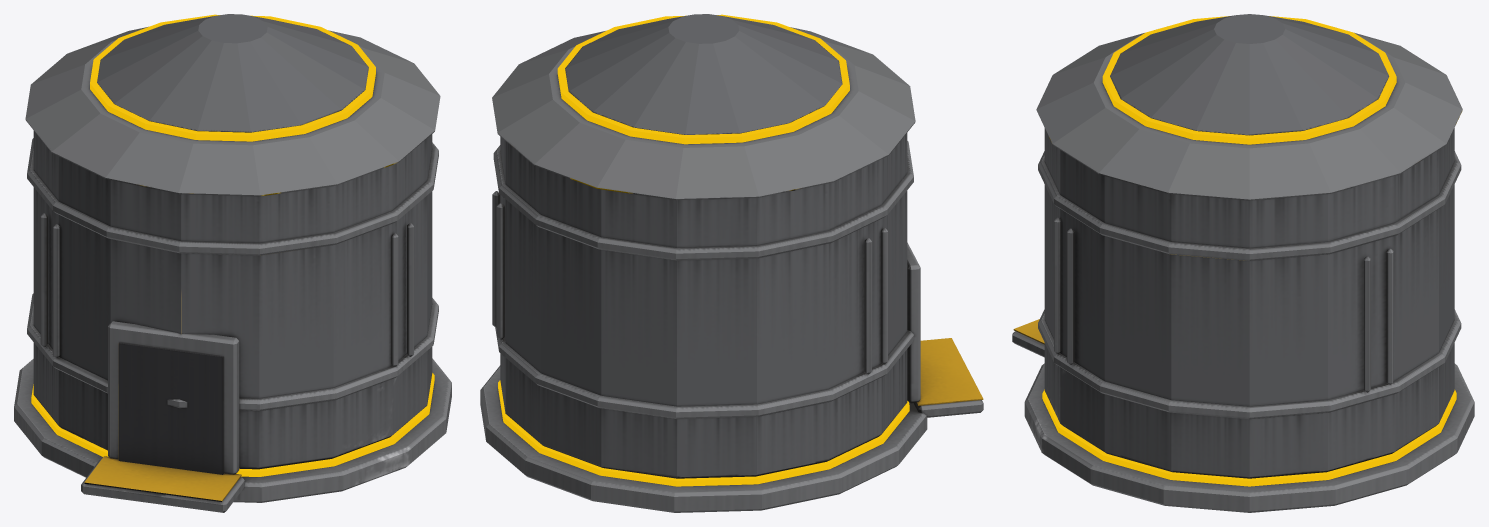
The model's file is nodexeus-set-mod-drum.glb.
3 views of the same model, side by side, from view 1: azimuth 30°, elevation 25°; view 2: azimuth 150°, elevation 25°; view 3: azimuth 270°, elevation 25° (orthographic). The views are drawn at different scales.
Visible parts, largest first — view 1: set-mod-drum; view 2: set-mod-drum; view 3: set-mod-drum.
Boxes of the visible parts, x1,y1,x2,y2 form: set-mod-drum: (14, 14, 451, 512); set-mod-drum: (480, 14, 983, 512); set-mod-drum: (1012, 14, 1474, 512).
Bounding box in the file's own units: 2.13 × 1.93 × 2.08.
1 material, 1 textured.
